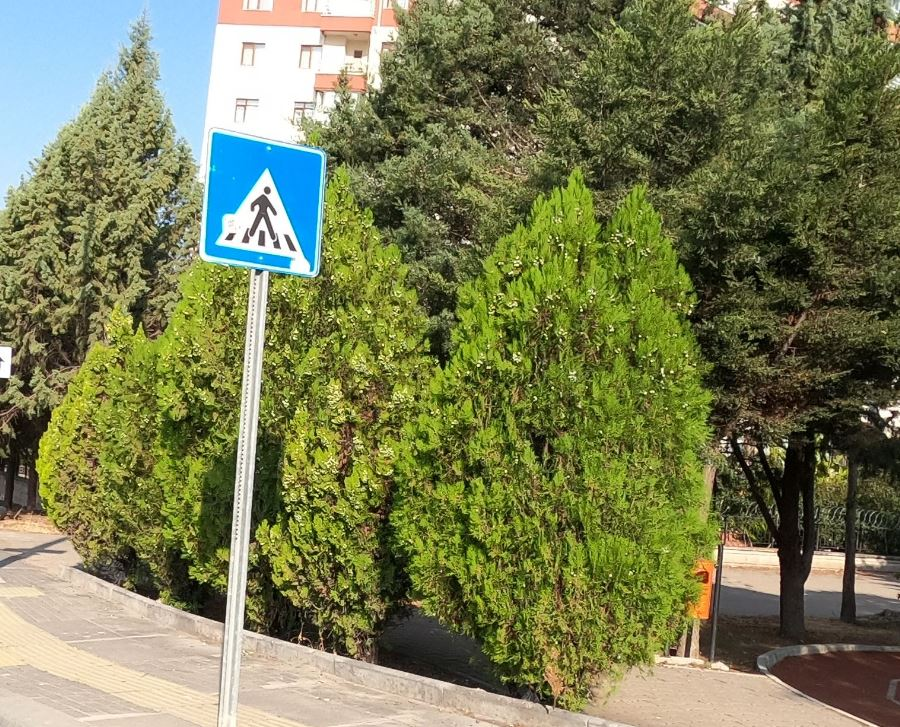Yaya Gecidi: (208, 130, 323, 273)
